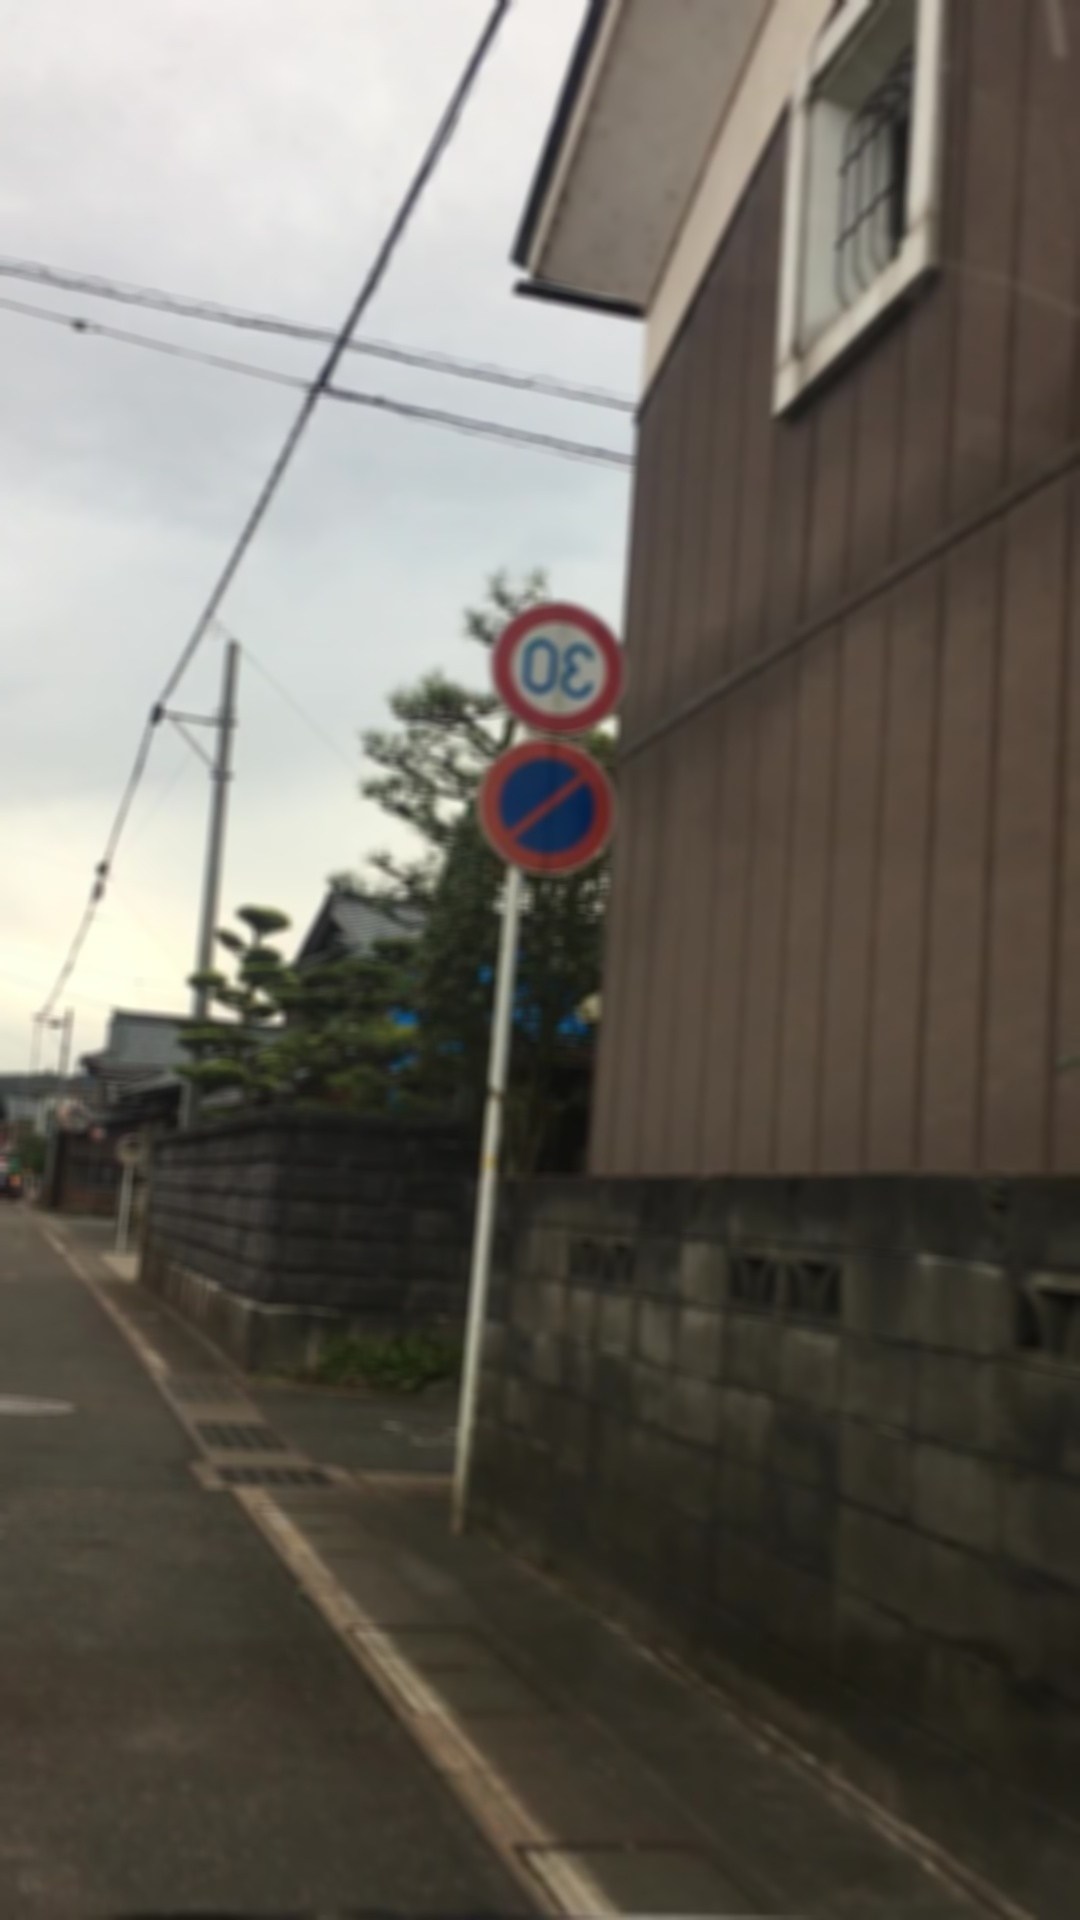Prohibition_sign: (465, 735, 638, 886)
Speed_sign: (488, 584, 646, 746)
